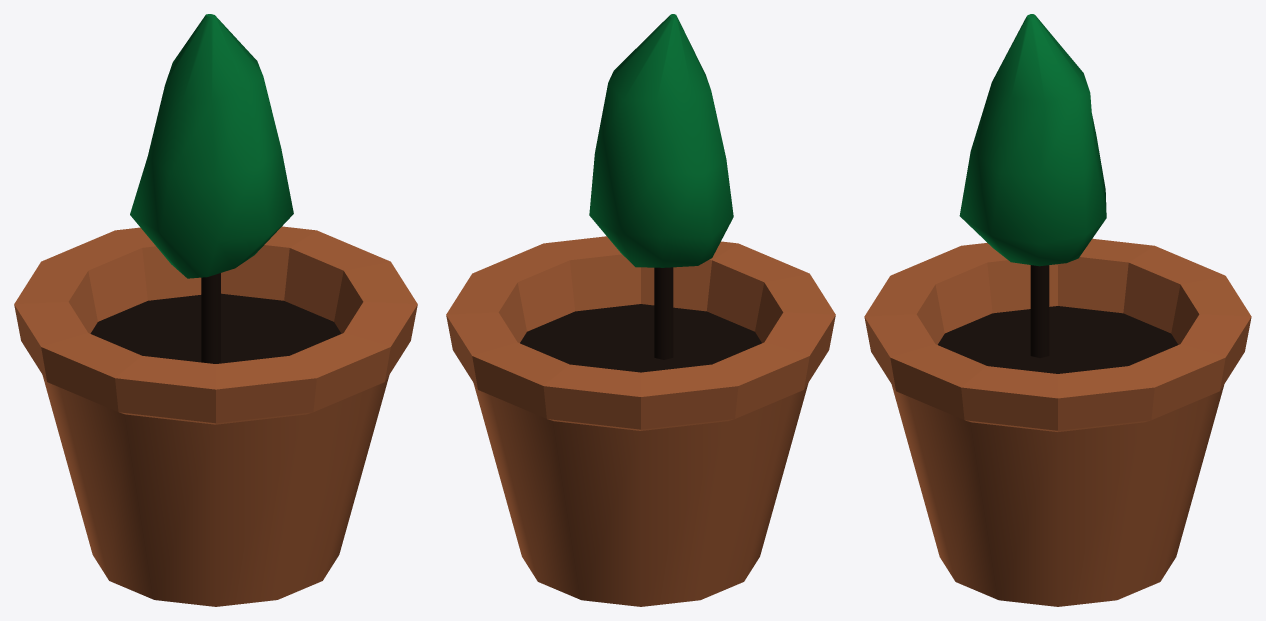
Rendered from planta_pequena_02.FBX.
3 views of the same model, side by side, from view 1: azimuth 30°, elevation 25°; view 2: azimuth 150°, elevation 25°; view 3: azimuth 270°, elevation 25° (orthographic). The views are drawn at different scales.
Visible parts, largest first — view 1: Cylinder001, Cylinder004, Cylinder005; view 2: Cylinder001, Cylinder004, Cylinder005; view 3: Cylinder001, Cylinder004, Cylinder005.
Part boxes in pixels (box(x1,y1,x2,y2)): Cylinder001: box(14, 226, 417, 606); Cylinder004: box(130, 14, 293, 278); Cylinder005: box(201, 273, 220, 363); Cylinder001: box(446, 236, 835, 606); Cylinder004: box(589, 14, 733, 267); Cylinder005: box(654, 267, 673, 359); Cylinder001: box(864, 238, 1251, 606); Cylinder004: box(959, 14, 1106, 266); Cylinder005: box(1030, 265, 1049, 357).
Bounding box in the file's own units: 12.72 × 19.28 × 12.72.
